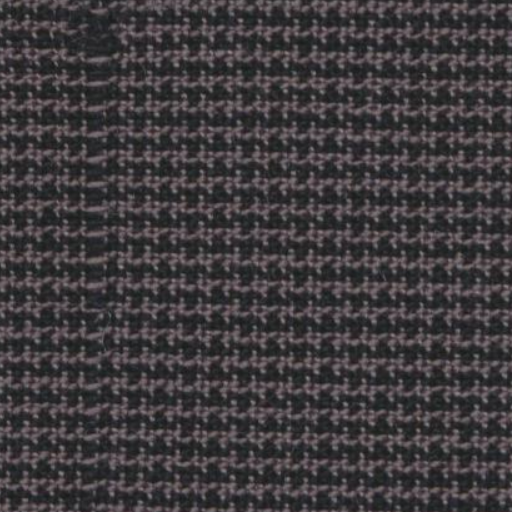DaiSha: (57, 8, 128, 342)
